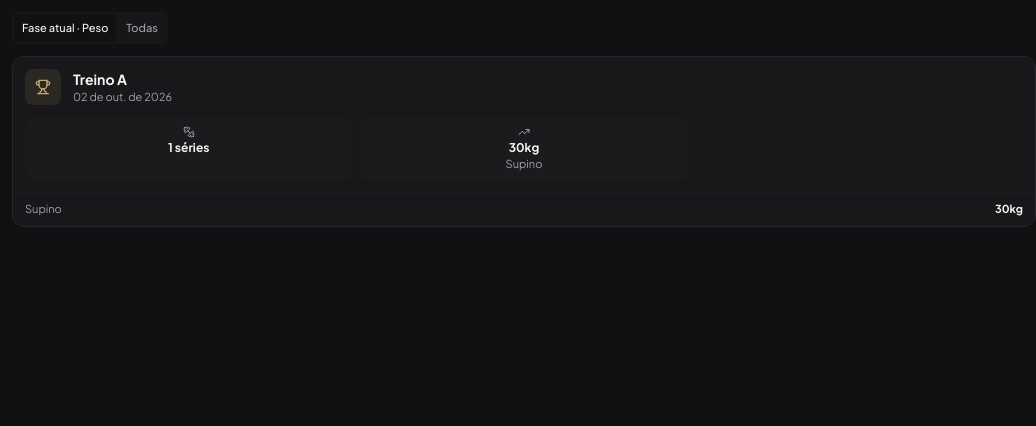
Test: WorkoutHistory por fase › filtra a fase atual, depois mostra todas com sufixo na data
The image size is (1036, 426).
Expected: the text "Treino A" is shown, x1=73 y1=69 x2=127 y2=89
Expected: the text "Treino B" is not shown
Click the button "Todas" at (142, 28), box x1=118 y1=14 x2=166 y2=42
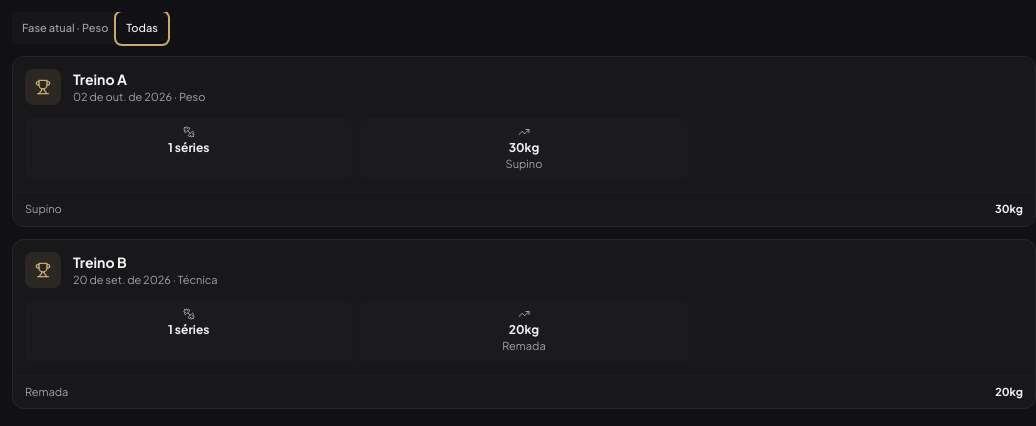
Result: the text "Treino B" is shown at x1=73 y1=252 x2=127 y2=272
Result: the text "20 de set. de 2026 · Técnica" is shown at x1=73 y1=272 x2=218 y2=286
